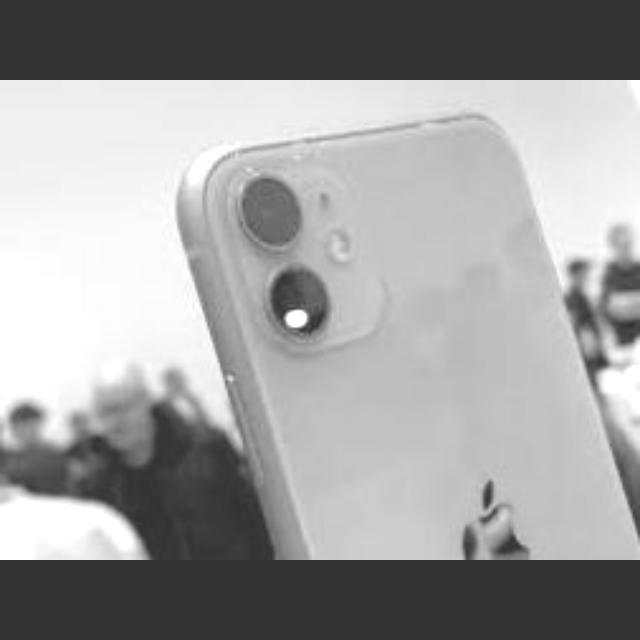fake: (124, 87, 638, 557)
